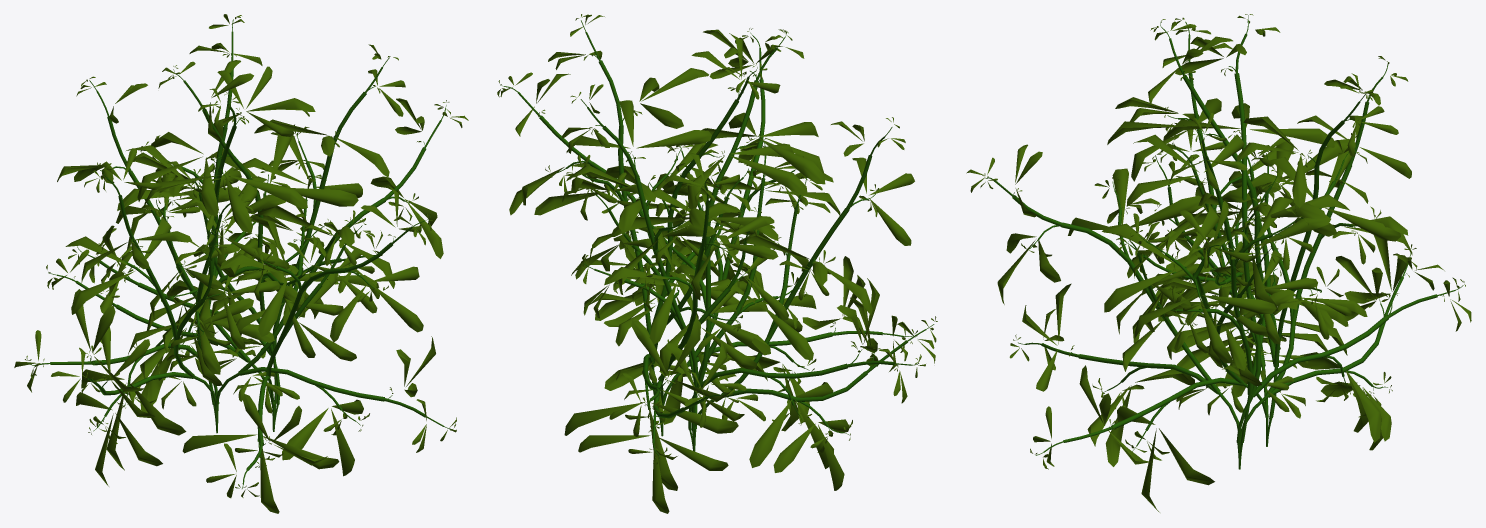
The model's file is Grass-13.FBX.
3 views of the same model, side by side, from view 1: azimuth 30°, elevation 25°; view 2: azimuth 150°, elevation 25°; view 3: azimuth 270°, elevation 25° (orthographic). The views are drawn at different scales.
Parts seen in each view (by area): view 1: leaves, stems; view 2: leaves, stems; view 3: leaves, stems.
Part boxes in pixels (left/top/right/bottom): leaves: left=14, top=14, right=468, bottom=513; stems: left=28, top=19, right=451, bottom=488; leaves: left=497, top=14, right=937, bottom=513; stems: left=500, top=20, right=934, bottom=459; leaves: left=966, top=14, right=1471, bottom=512; stems: left=985, top=15, right=1463, bottom=469.
Bounding box in the file's own units: 58.86 × 55.13 × 58.12.
